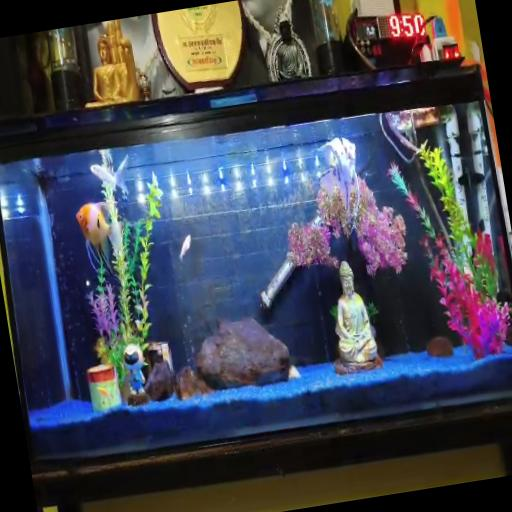Fish: (319, 138, 360, 234), (76, 201, 122, 275), (91, 157, 128, 198), (179, 235, 191, 260), (97, 386, 109, 397)
